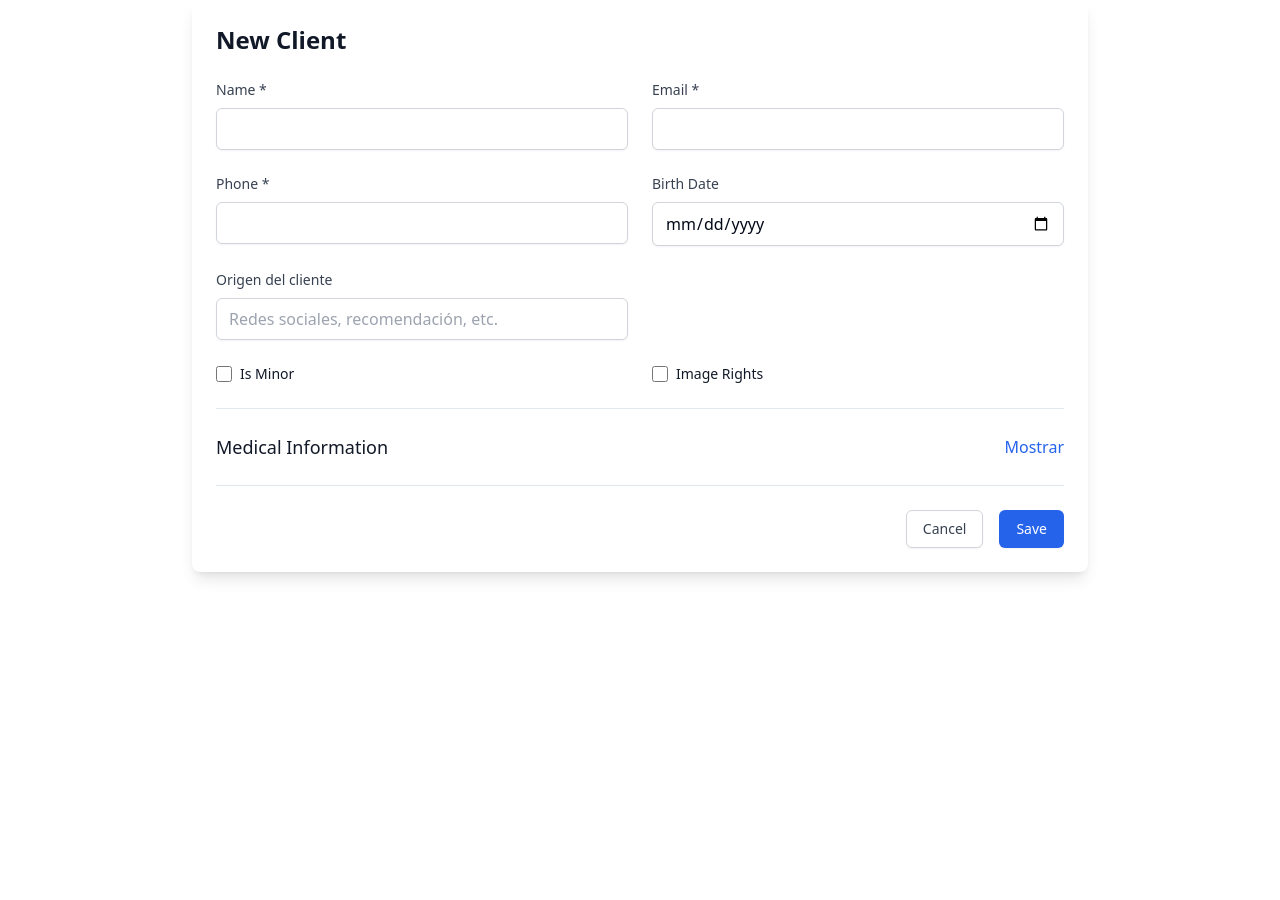
Scenario: ClientForm › should show guardian form when minor is checked
Click the checkbox labelled "Is Minor": (224, 374) [216,366,232,382]
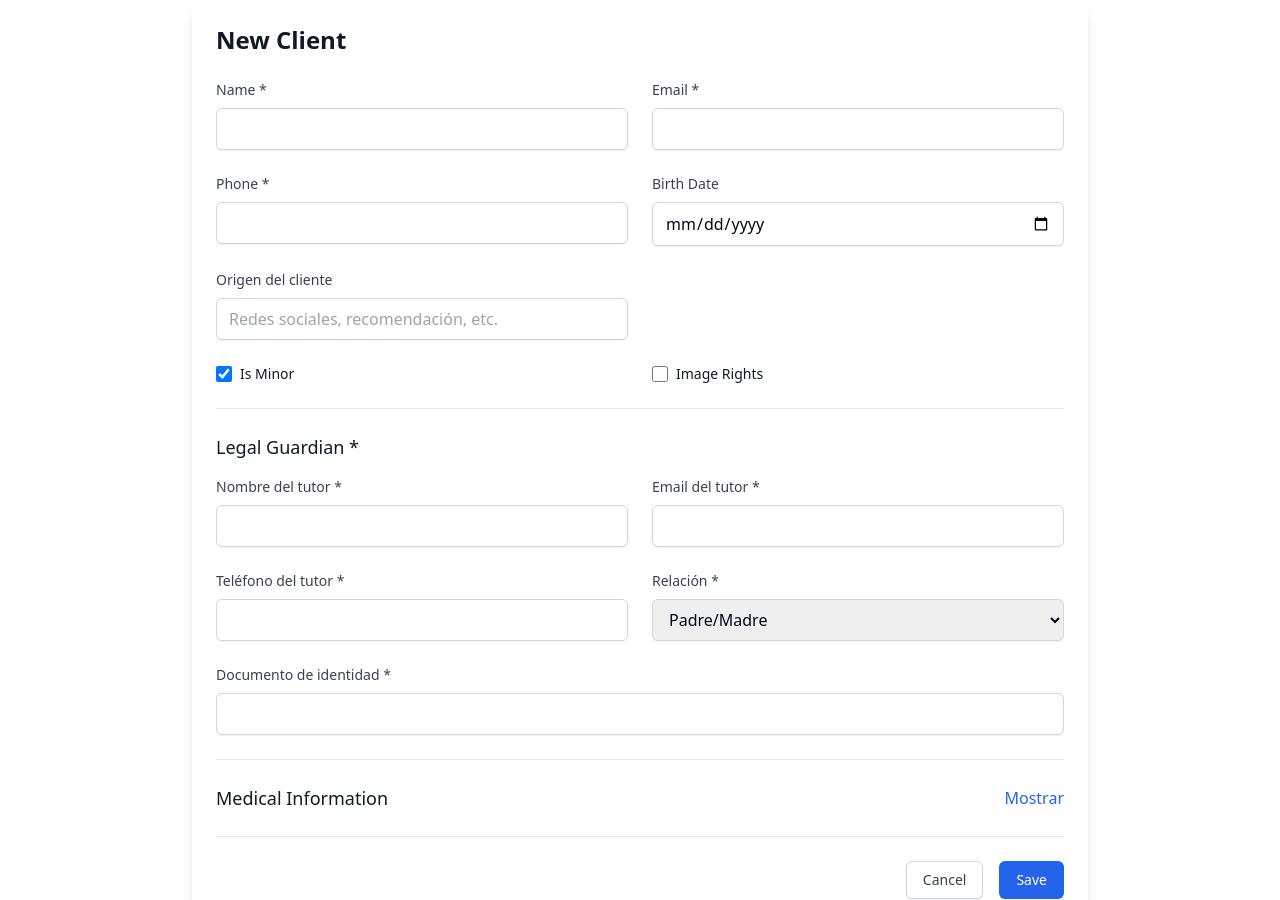
Expected: the heading "Legal Guardian *" is shown, [216,435,359,459]
